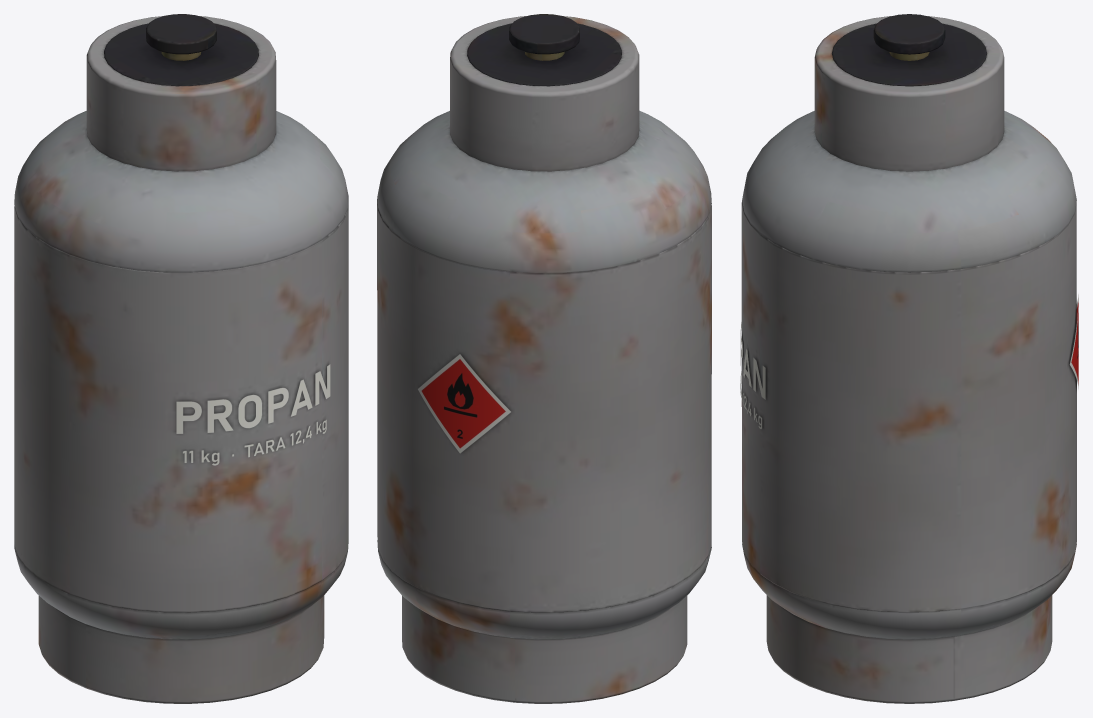
Rendered from gasflaske.glb.
3 renders of one model, left to right at view 1: azimuth 30°, elevation 25°; view 2: azimuth 150°, elevation 25°; view 3: azimuth 270°, elevation 25°, orthographic.
Visible parts, largest first — view 1: gasflaske, propan; view 2: gasflaske, gasrude; view 3: gasflaske, propan.
Part boxes in pixels (x1,y1,x2,y2): gasflaske: [14, 14, 348, 703]; propan: [176, 364, 330, 465]; gasflaske: [377, 14, 711, 703]; gasrude: [418, 354, 510, 453]; gasflaske: [741, 14, 1076, 703]; propan: [740, 322, 765, 429].
Bounding box in the file's own units: 0.3004 × 0.61 × 0.303.
Materials: 3 (3 with a texture image).
